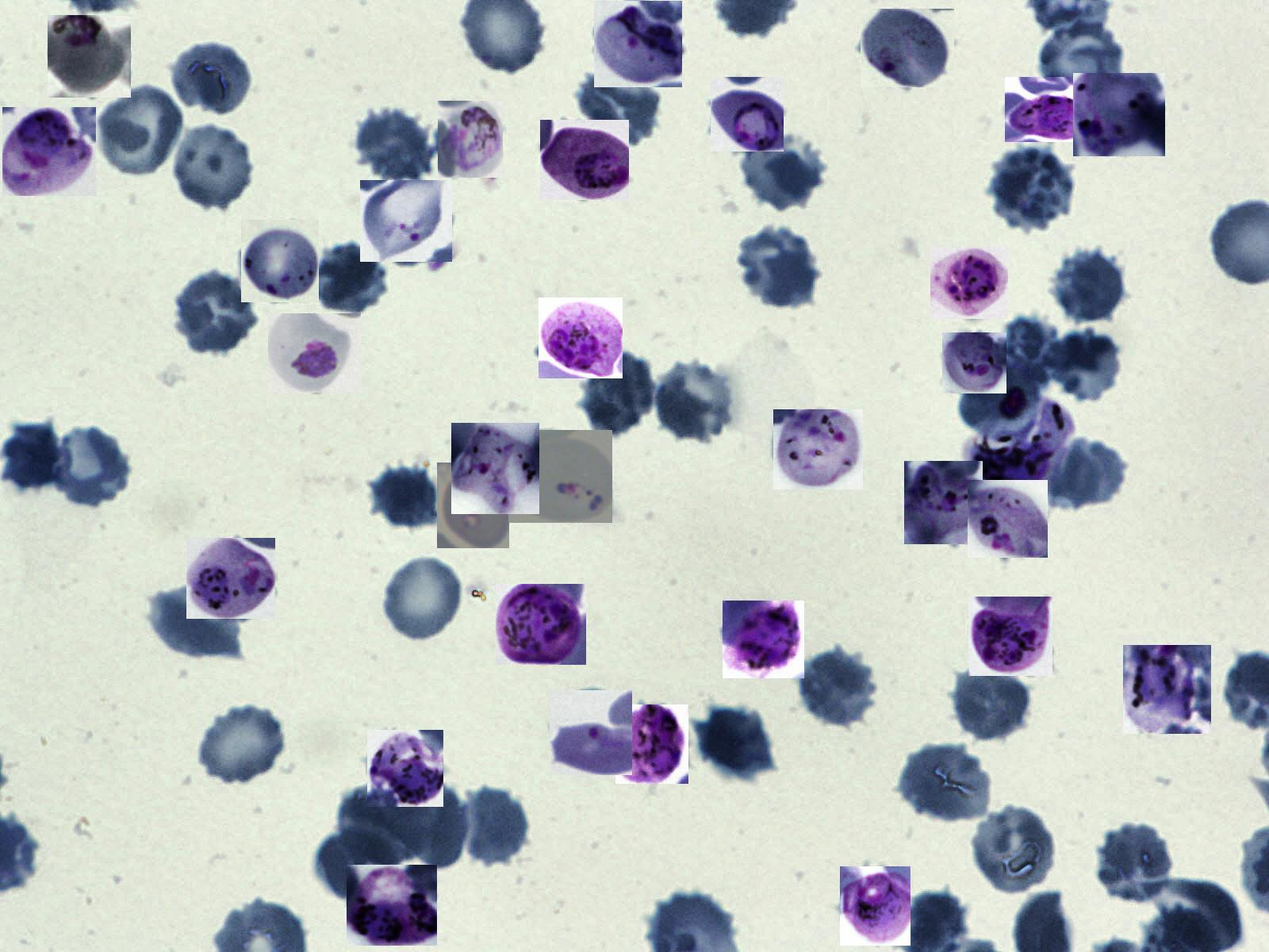Infected: (969, 397, 1075, 491), (508, 430, 612, 523), (2, 107, 96, 196), (451, 423, 539, 514), (1123, 645, 1211, 734), (1073, 73, 1165, 156), (594, 1, 682, 87), (360, 180, 452, 262), (268, 313, 361, 393), (496, 584, 586, 665), (347, 865, 437, 946), (861, 9, 954, 87), (186, 538, 275, 619), (773, 409, 863, 489), (540, 120, 629, 200), (550, 690, 632, 775), (48, 15, 131, 98), (539, 298, 623, 378), (968, 597, 1052, 676), (904, 461, 983, 544), (241, 220, 319, 302), (968, 480, 1048, 558), (723, 601, 804, 678), (437, 463, 509, 548), (367, 731, 443, 808), (615, 704, 688, 784), (840, 866, 911, 946), (930, 247, 1008, 319), (711, 77, 784, 152), (438, 101, 503, 178), (1005, 77, 1080, 142), (942, 332, 1006, 393)
Uninfected: (95, 81, 186, 178), (171, 123, 258, 212), (972, 803, 1056, 893), (197, 701, 286, 785), (900, 743, 991, 825), (575, 63, 666, 145), (380, 555, 465, 642), (148, 585, 243, 662), (173, 270, 258, 354), (651, 359, 736, 442), (1037, 331, 1126, 409), (1095, 821, 1178, 904), (735, 224, 819, 306), (47, 428, 130, 509), (317, 827, 401, 907), (990, 147, 1074, 226), (171, 37, 255, 116), (958, 359, 1039, 439), (798, 649, 880, 728), (1039, 24, 1123, 101), (953, 664, 1033, 742), (742, 132, 822, 210), (698, 703, 774, 784), (351, 106, 431, 182), (582, 356, 653, 437), (312, 244, 389, 318), (1054, 248, 1128, 322), (1049, 440, 1126, 507), (462, 788, 525, 866), (370, 463, 440, 528), (1001, 315, 1060, 389), (2, 420, 63, 491)
